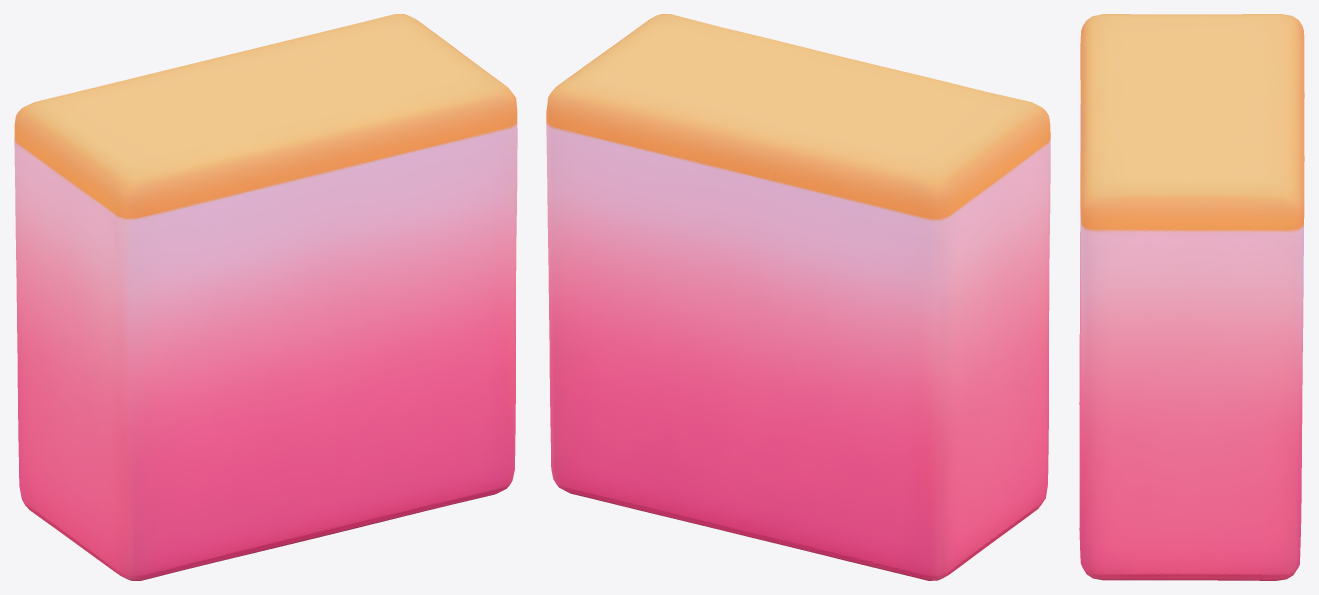
File: base_basic_shaded.fbx
3 renders of one model, left to right at view 1: azimuth 30°, elevation 25°; view 2: azimuth 150°, elevation 25°; view 3: azimuth 270°, elevation 25°, orthographic. The views are drawn at different scales.
Parts seen in each view (by area): view 1: model; view 2: model; view 3: model.
Part boxes in pixels (left/top/right/bottom): model: left=14, top=14, right=517, bottom=580; model: left=546, top=14, right=1050, bottom=580; model: left=1079, top=14, right=1304, bottom=580.
Size of the model in its own units: 183 by 178 by 92.11.
